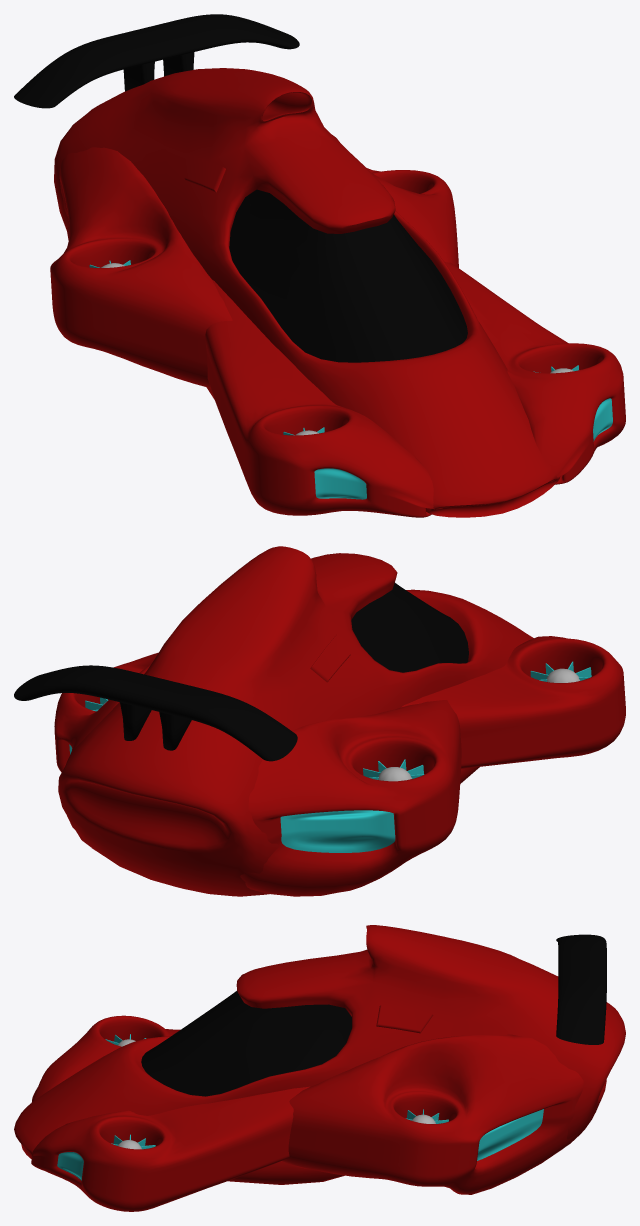
The model's file is Car_Model.fbx.
The picture shows the model from 3 angles, top to bottom: view 1: azimuth 30°, elevation 25°; view 2: azimuth 150°, elevation 25°; view 3: azimuth 270°, elevation 25°; orthographic projection. The views are drawn at different scales.
Visible parts, largest first — view 1: Car; view 2: Car; view 3: Car.
Boxes of the visible parts, x1=… form: Car: x1=14, y1=14, x2=625, y2=517; Car: x1=14, y1=546, x2=625, y2=896; Car: x1=14, y1=925, x2=625, y2=1211.
Size of the model in its own units: 89.16 by 63.69 by 152.
